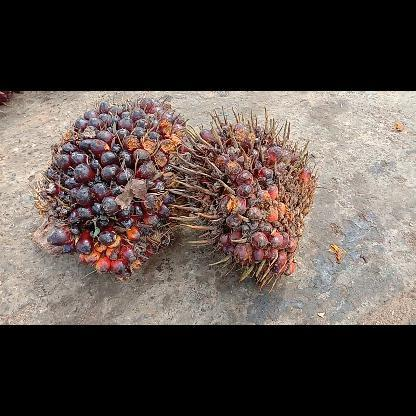Kurang masak: (29, 93, 190, 279)
TBS masak: (168, 106, 316, 292)
